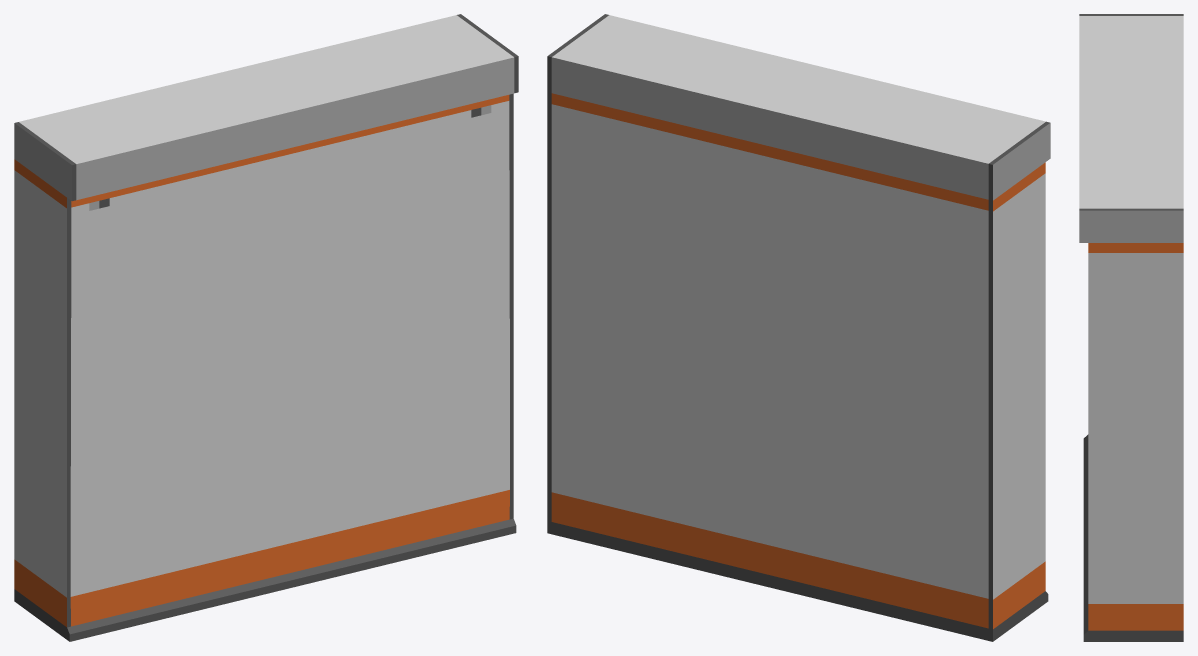
Rendered from Stena2(1).fbx.
The picture shows the model from 3 angles, left to right: view 1: azimuth 30°, elevation 25°; view 2: azimuth 150°, elevation 25°; view 3: azimuth 270°, elevation 25°; orthographic projection. The views are drawn at different scales.
Parts seen in each view (by area): view 1: Cube.004; view 2: Cube.004; view 3: Cube.004.
Part boxes in pixels (<box>): Cube.004: <box>14,14,518,641</box>; Cube.004: <box>547,14,1050,641</box>; Cube.004: <box>1079,14,1183,641</box>.
Size of the model in its own units: 293 by 300 by 65.71.
